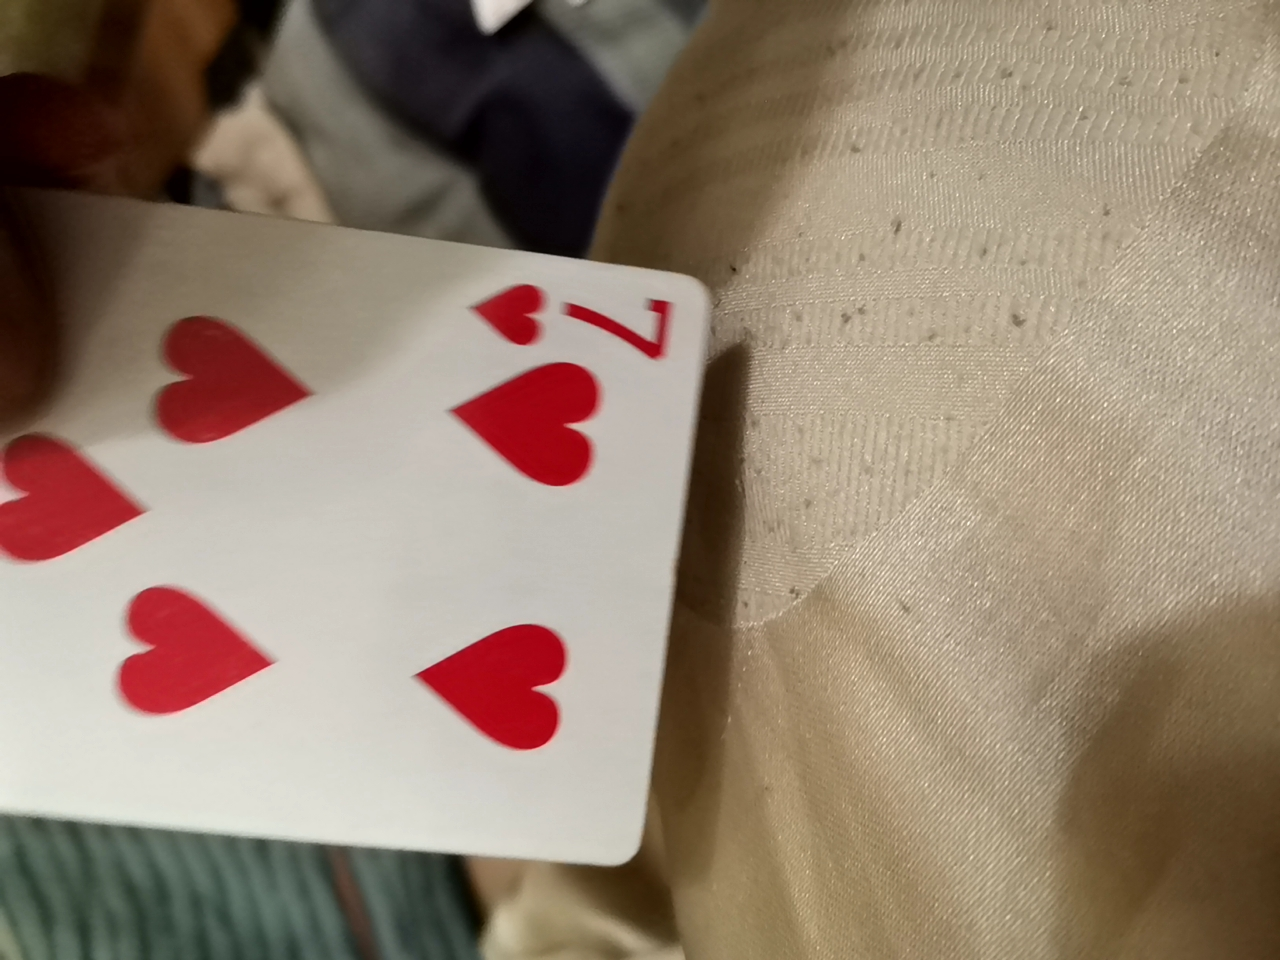hx 7: (2, 169, 721, 893)
